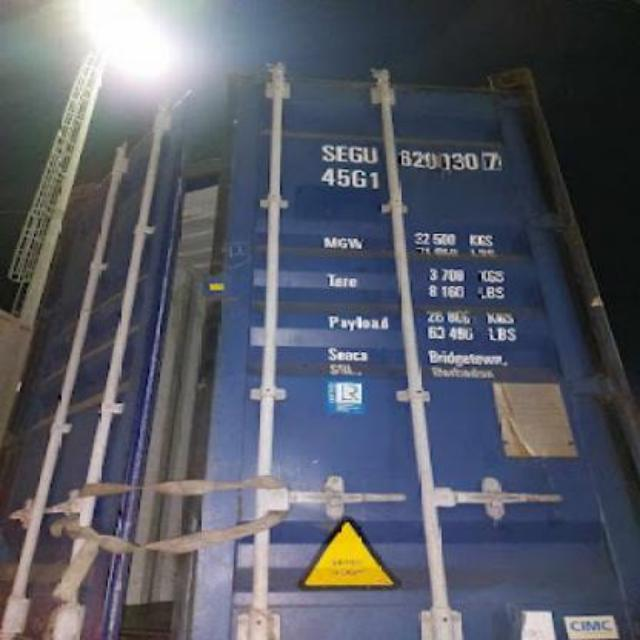0: (464, 151, 478, 169), (438, 152, 450, 170)
2: (410, 148, 426, 172)
3: (452, 152, 464, 170)
6: (398, 148, 412, 168)
7: (482, 154, 500, 168)
9: (422, 150, 436, 170)
E: (334, 142, 348, 166)
G: (348, 144, 362, 164)
S: (320, 140, 336, 163)
U: (362, 145, 376, 165)
